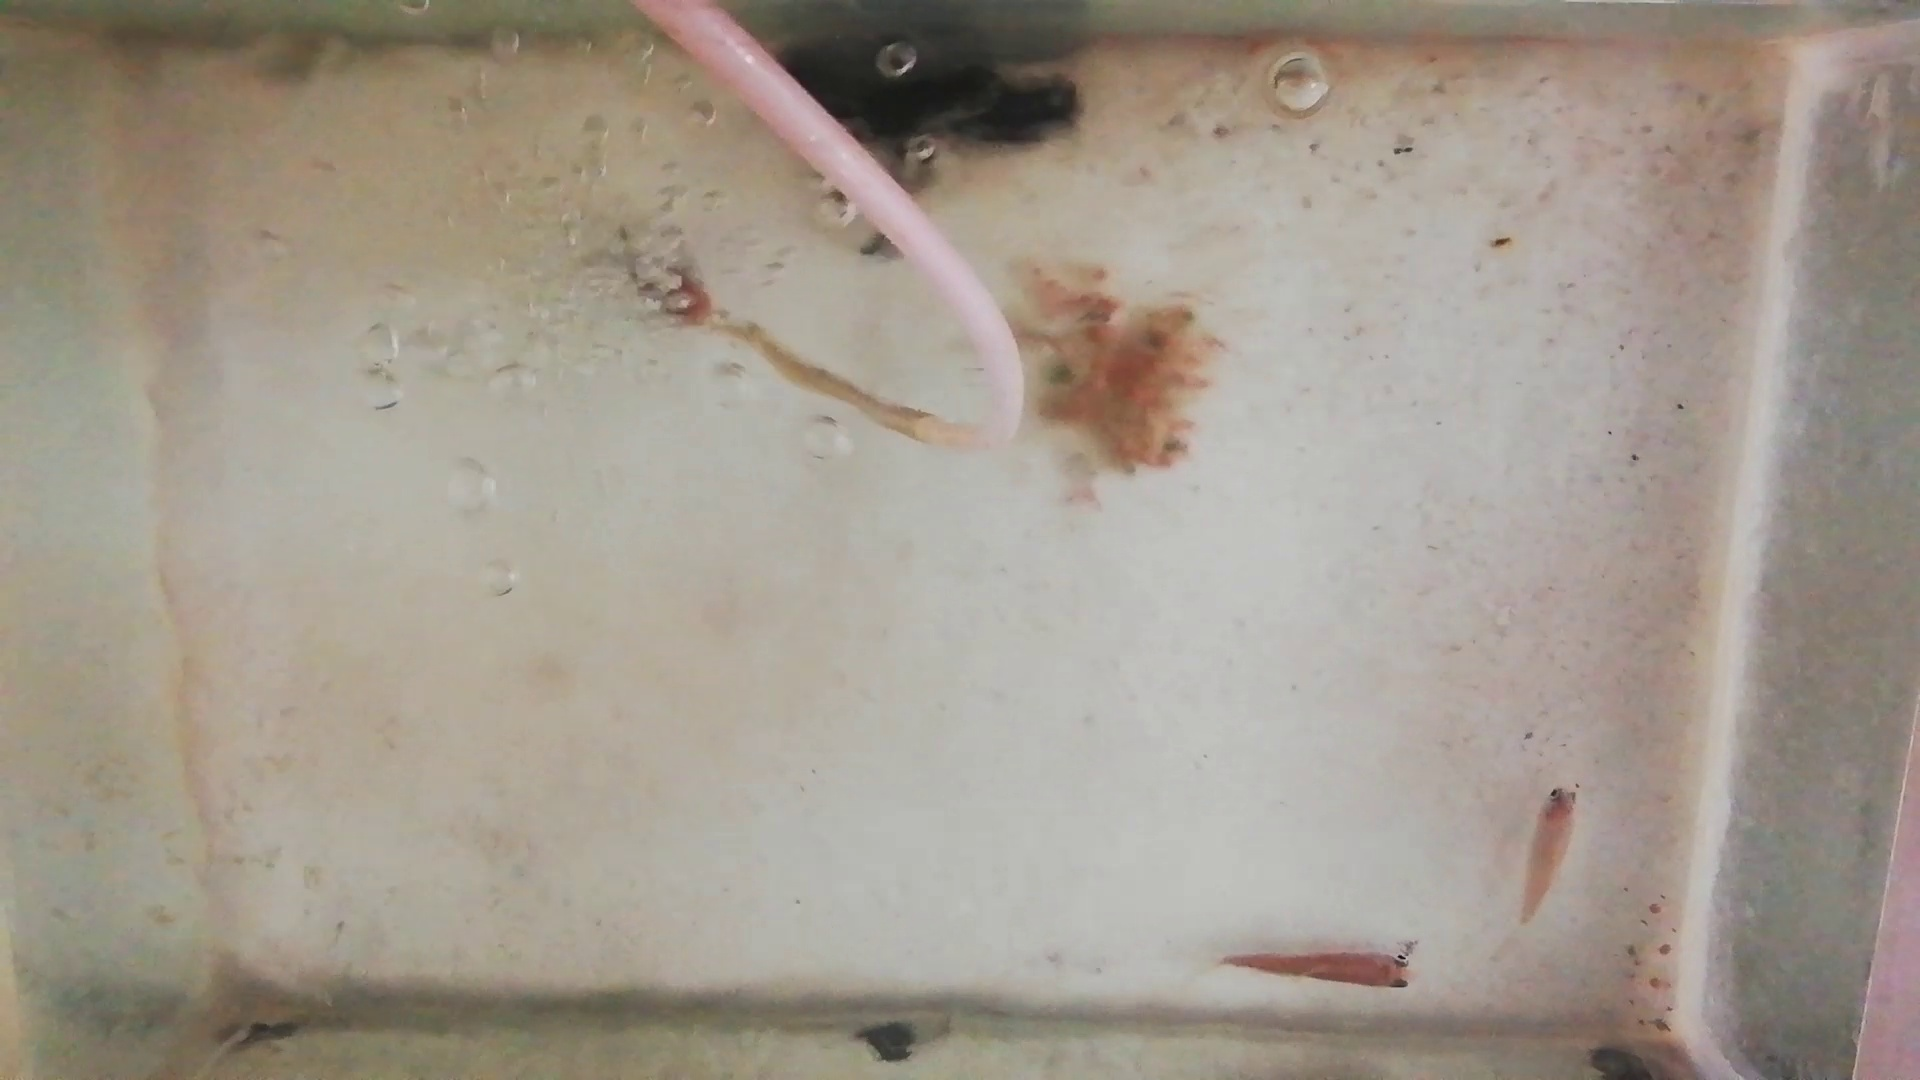fish: (1218, 948, 1419, 992), (1519, 783, 1580, 927)
